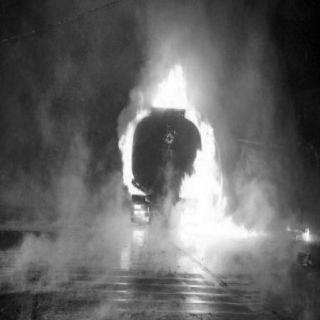Fire: (110, 71, 244, 241)
